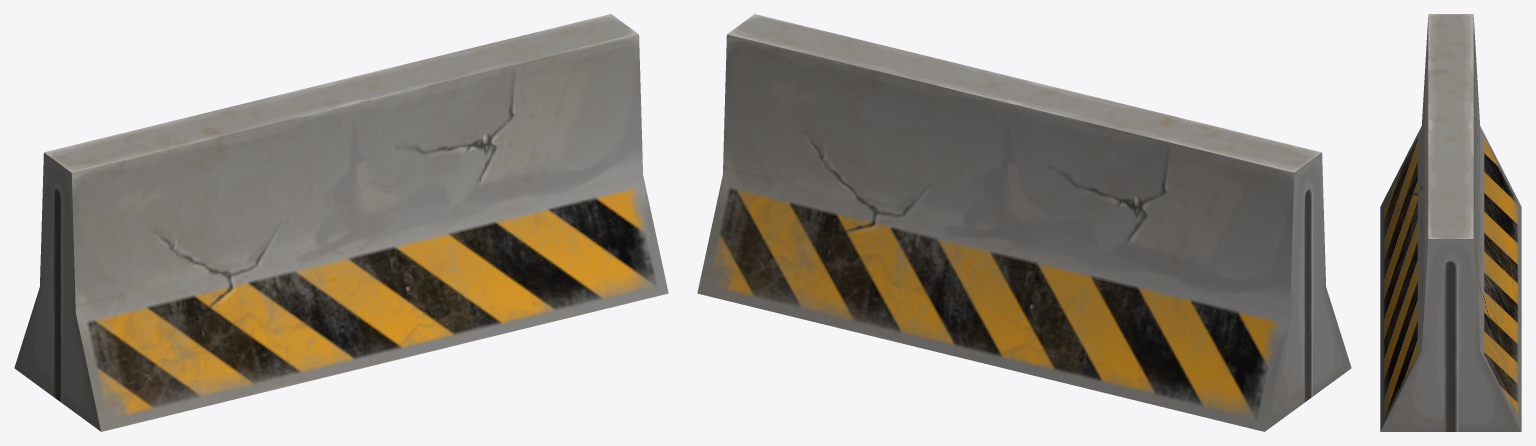
The model's file is TRF0210027.fbx.
3 views of the same model, side by side, from view 1: azimuth 30°, elevation 25°; view 2: azimuth 150°, elevation 25°; view 3: azimuth 270°, elevation 25° (orthographic). The views are drawn at different scales.
Parts seen in each view (by area): view 1: smTRF0210027; view 2: smTRF0210027; view 3: smTRF0210027.
Boxes of the visible parts, left/top/right/bottom form: smTRF0210027: left=14, top=14, right=668, bottom=431; smTRF0210027: left=697, top=14, right=1351, bottom=431; smTRF0210027: left=1380, top=14, right=1521, bottom=431.
Bounding box in the file's own units: 275 × 110 × 73.11.
1 material, 1 textured.
